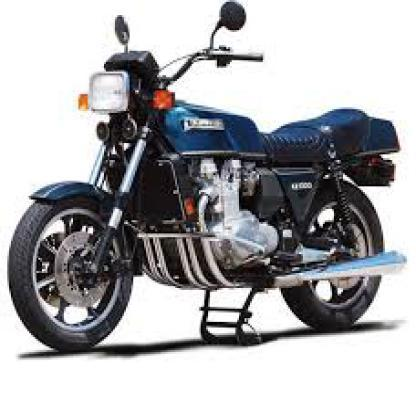Motorcycle: (1, 0, 408, 355)
